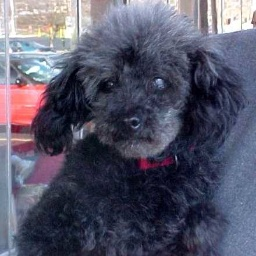dog: (21, 7, 233, 254)
